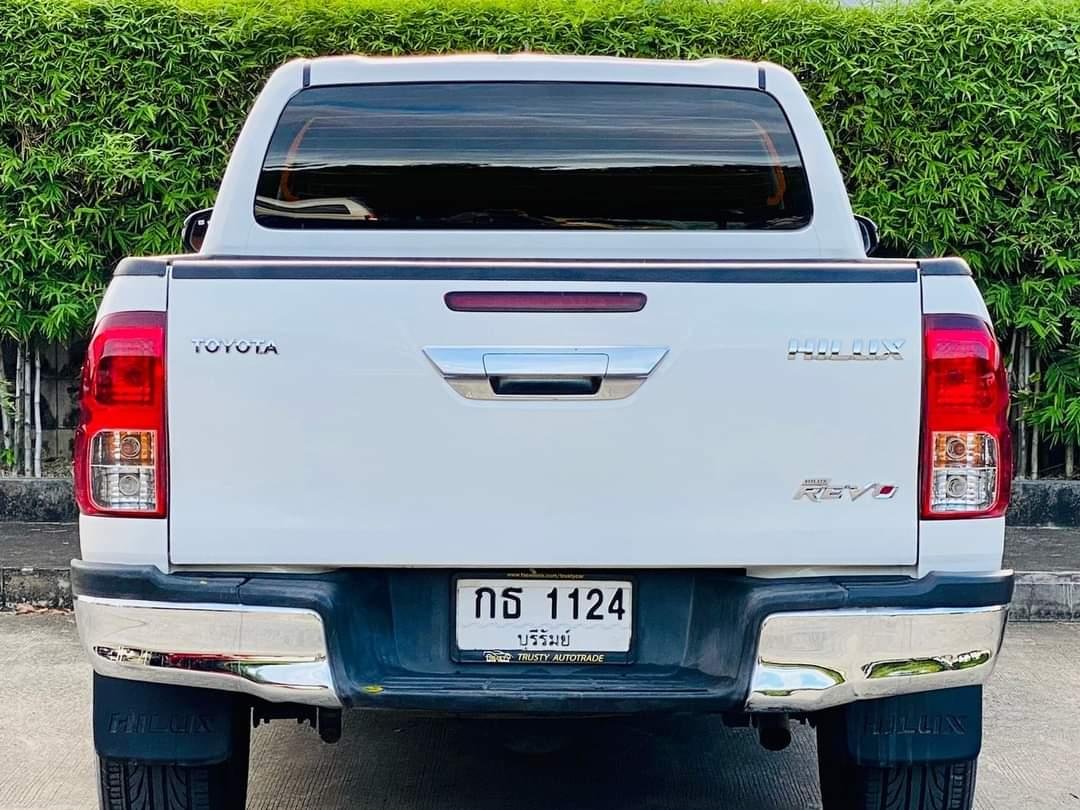license-plate: (448, 569, 644, 665)
